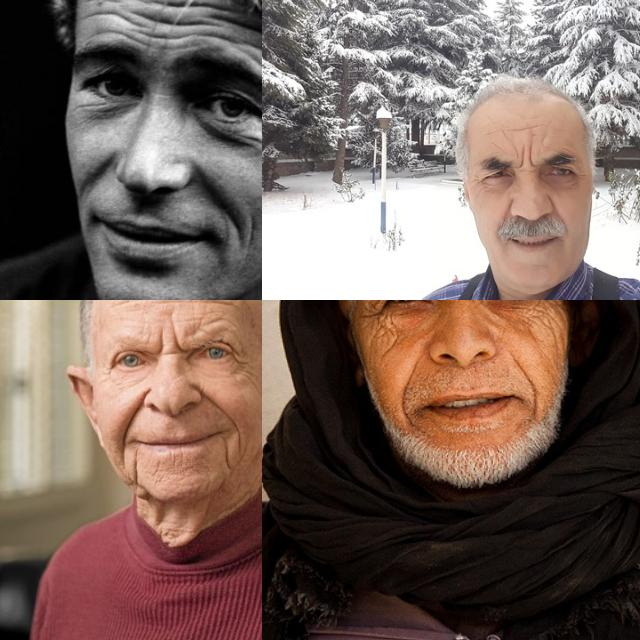chin: (150, 456, 164, 476)
crows_feet: (359, 300, 387, 331), (230, 346, 253, 378), (534, 300, 562, 323), (102, 356, 116, 376), (574, 169, 590, 185), (472, 173, 484, 190)
forehead: (202, 0, 251, 40), (153, 0, 192, 32), (94, 4, 144, 28), (200, 312, 234, 326), (245, 47, 262, 74), (508, 119, 534, 135), (109, 300, 144, 311), (486, 124, 509, 140), (204, 300, 238, 309)
frown_line: (517, 148, 537, 176), (170, 327, 188, 358), (156, 328, 167, 358)
gummy_smile: (512, 354, 542, 401), (196, 168, 230, 208), (397, 360, 421, 412), (84, 153, 115, 187), (198, 387, 230, 419), (122, 396, 144, 438), (230, 422, 247, 453), (500, 194, 514, 226), (546, 195, 562, 217), (117, 442, 129, 471)
sad_smile: (227, 212, 259, 244), (126, 452, 146, 486), (217, 436, 233, 472)
